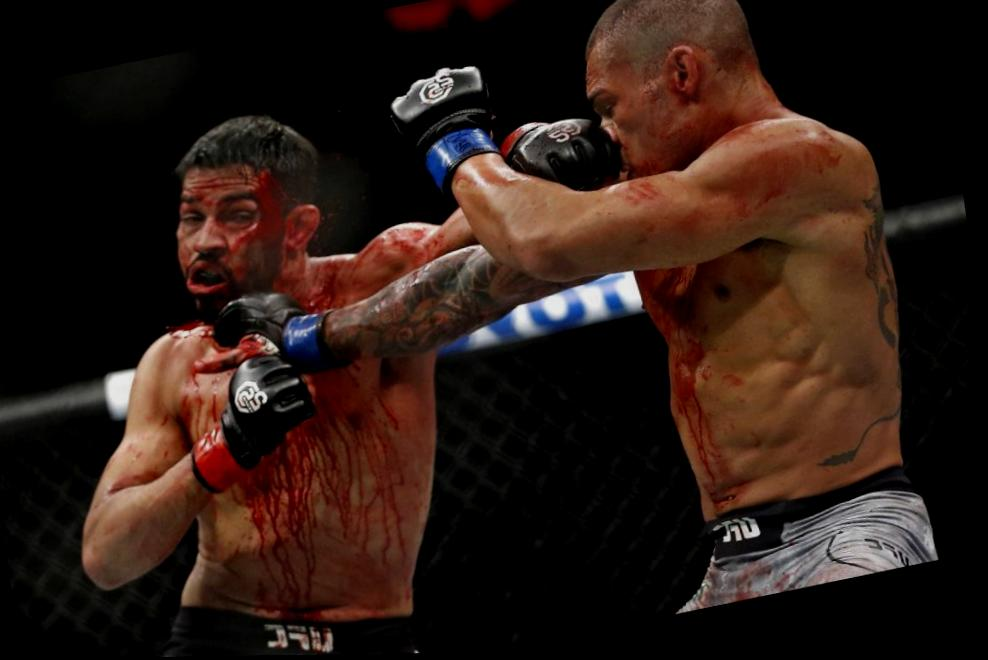Fire: (231, 358, 440, 613), (589, 120, 853, 232), (640, 267, 751, 522), (588, 45, 773, 181), (177, 167, 286, 321), (272, 223, 455, 314), (170, 321, 228, 446)
